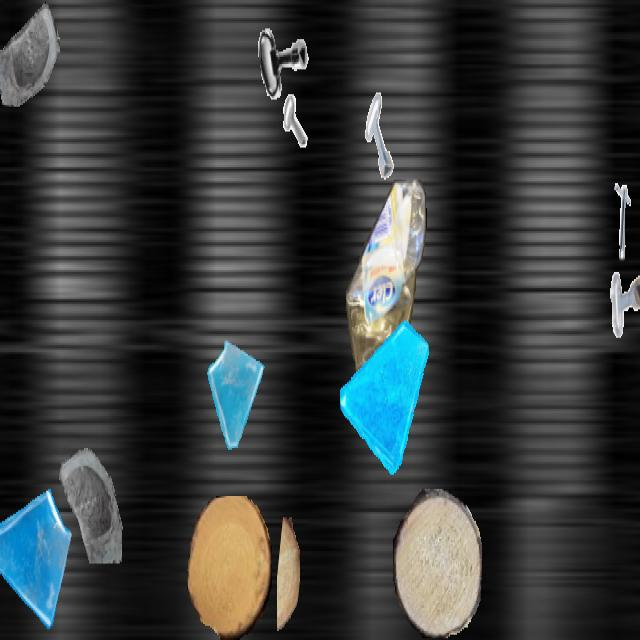glass: (340, 314, 430, 474), (0, 478, 73, 638), (49, 426, 125, 562), (204, 338, 268, 452), (0, 2, 60, 108)
metal: (251, 2, 313, 112), (357, 90, 407, 180), (259, 91, 307, 176), (601, 180, 640, 276), (608, 263, 640, 338)
plastic: (346, 180, 428, 439)
wood: (393, 489, 481, 638), (187, 496, 271, 638), (277, 518, 299, 638)
